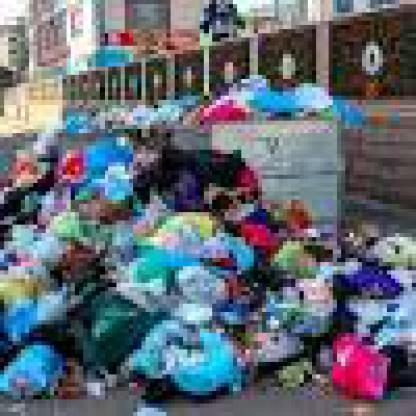Garbage: (25, 158, 216, 378), (4, 216, 104, 320), (180, 60, 354, 118), (146, 325, 245, 395), (158, 229, 233, 320), (278, 246, 370, 320), (321, 320, 382, 412), (8, 341, 78, 399), (229, 204, 312, 246), (208, 154, 258, 212), (224, 162, 262, 212), (286, 200, 320, 246), (271, 79, 328, 104), (196, 92, 254, 116), (233, 54, 262, 100), (208, 146, 242, 184), (241, 212, 283, 228)
